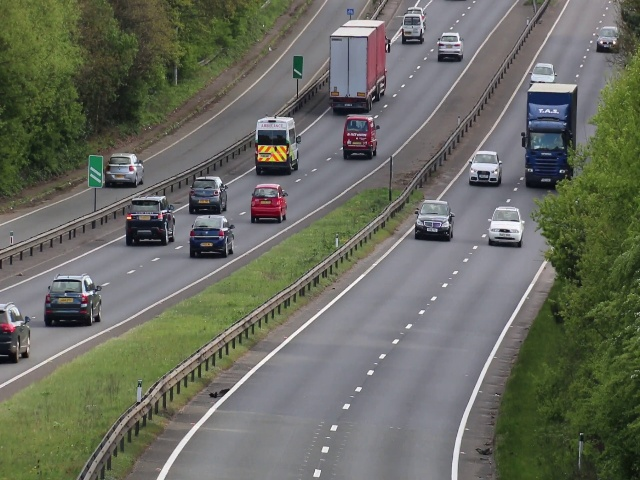car: (39, 271, 105, 327), (524, 113, 569, 191), (253, 113, 301, 171), (125, 191, 176, 245), (187, 216, 234, 261), (418, 197, 455, 251), (341, 111, 378, 161), (1, 299, 32, 358), (250, 183, 289, 226), (187, 176, 227, 215), (102, 150, 145, 186), (490, 203, 523, 247), (470, 149, 500, 187), (435, 27, 465, 63), (527, 58, 557, 85), (401, 13, 425, 45), (598, 22, 618, 53)
